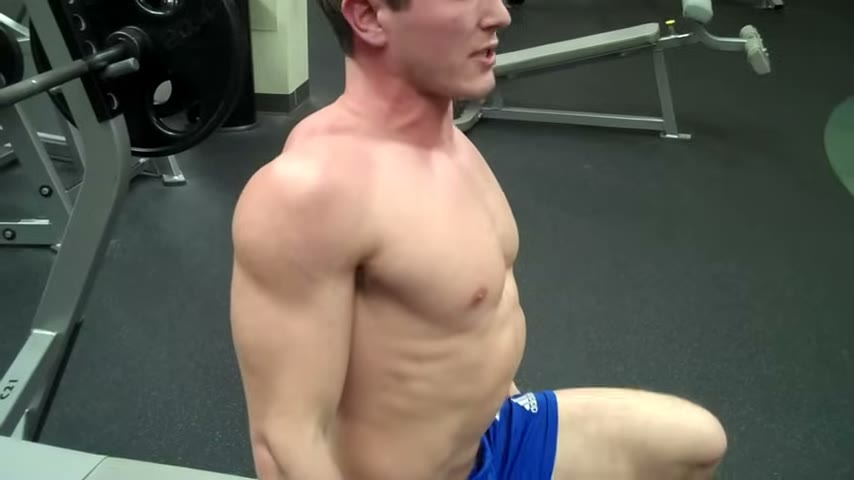barbell_plate_side: (0, 0, 73, 442)
